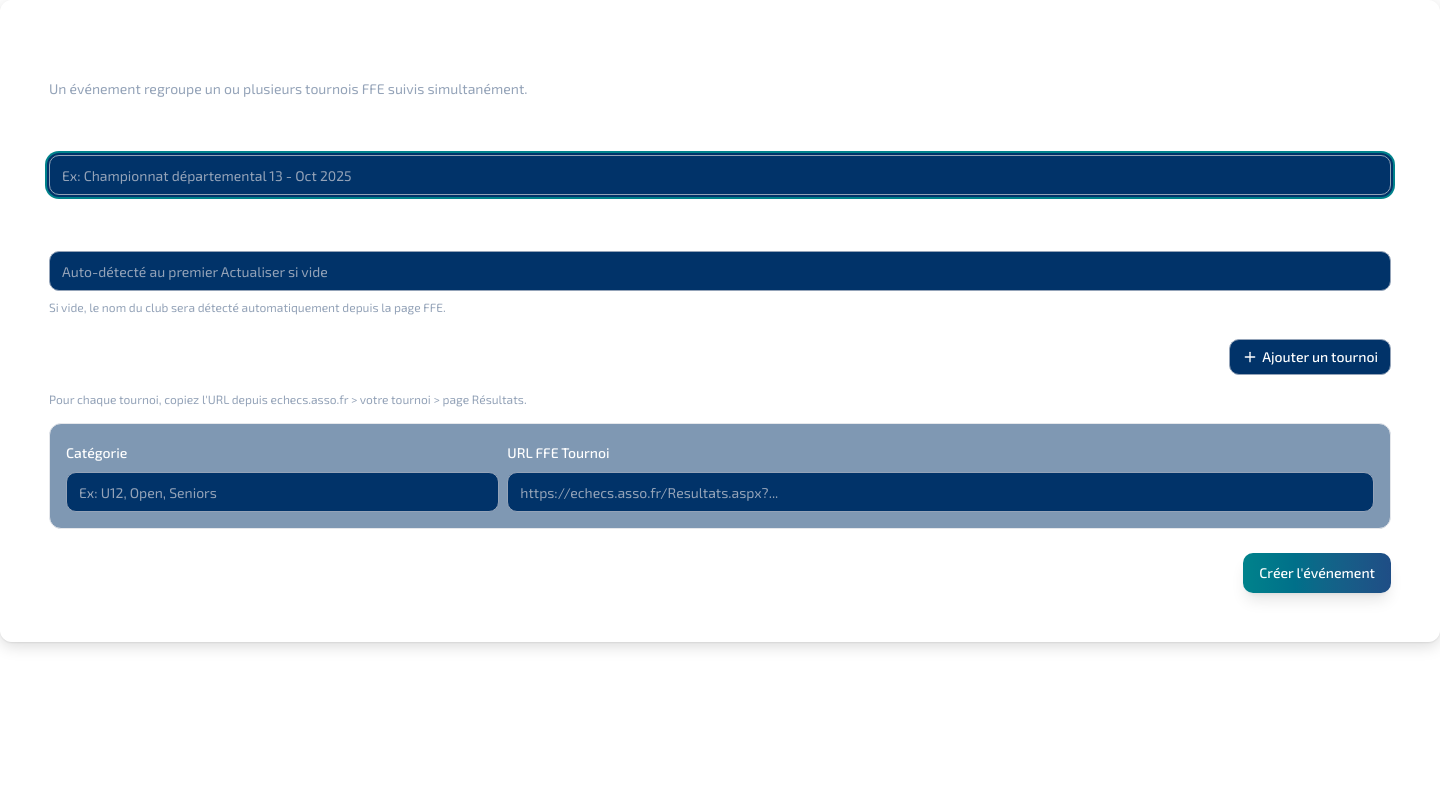
Test case: EventForm › Tournament Management › removes tournament when remove button is clicked
Click the button "Ajouter un tournoi" at (1310, 357), box [1229,339,1391,375]
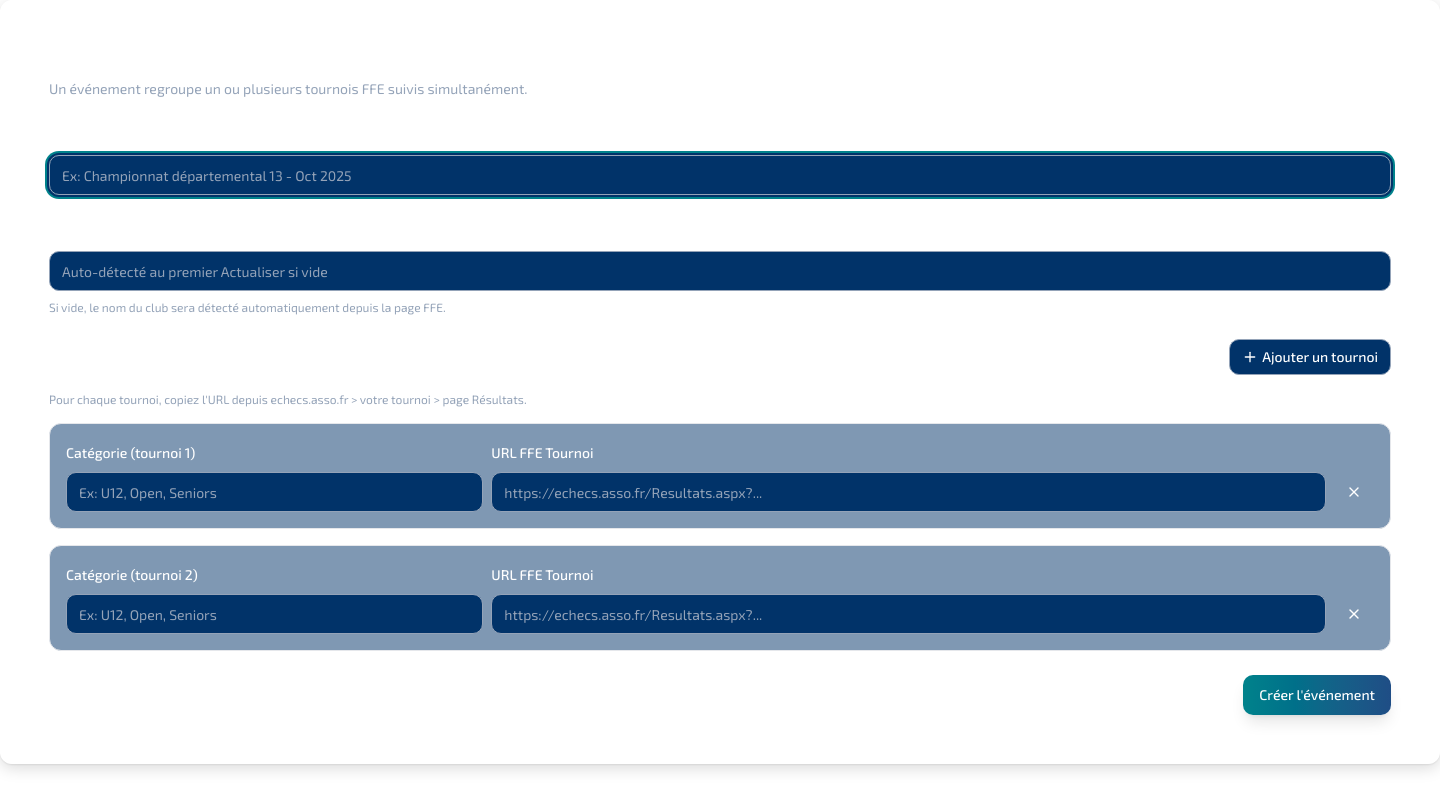
Expected: the number of fields labelled "Catégorie (tournoi 1)" is 2, [66,472,483,512]; [66,594,483,634]
Click the 2nd button at (1354, 492), box [1334,472,1374,512]
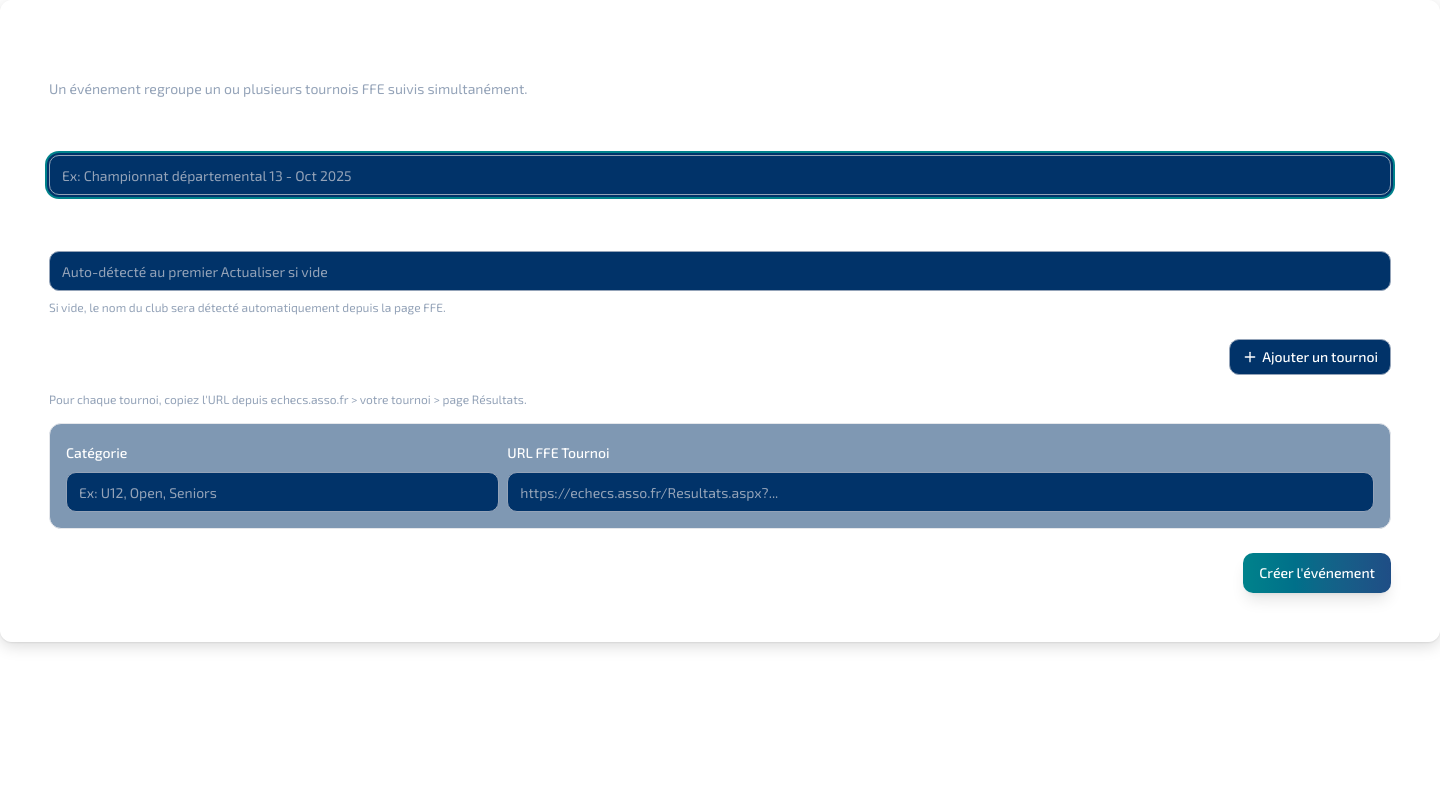
Expected: the number of fields labelled "Catégorie" is 1, [66,472,499,512]
